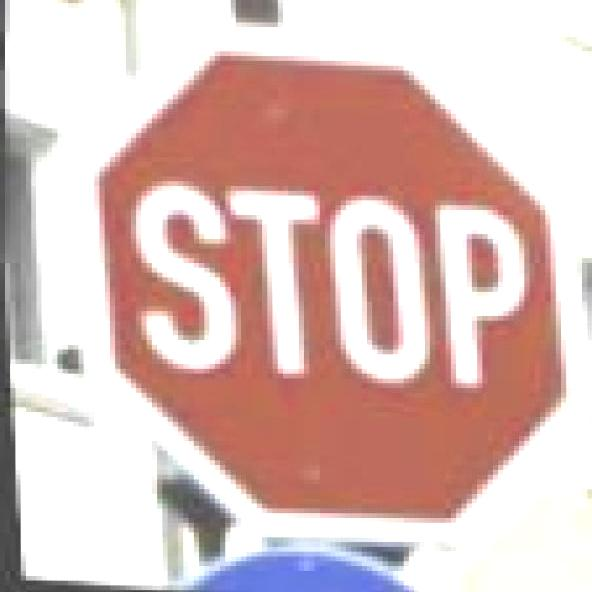stop_sign: (26, 0, 592, 568)
